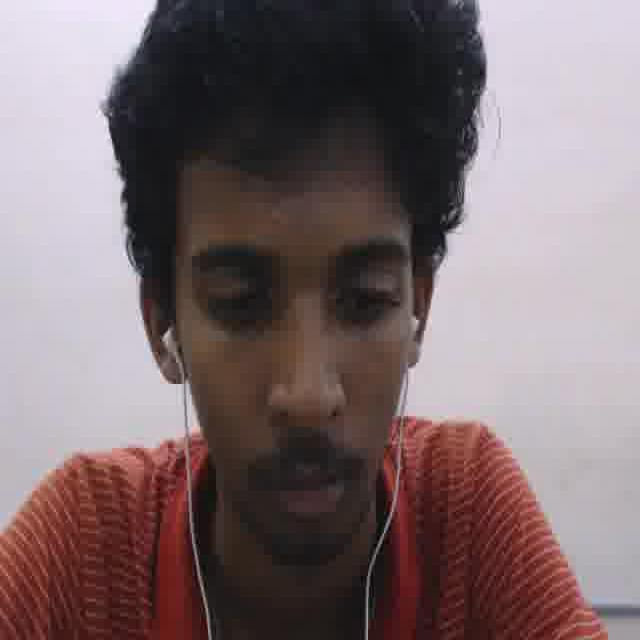Boredom: (165, 126, 426, 574)
